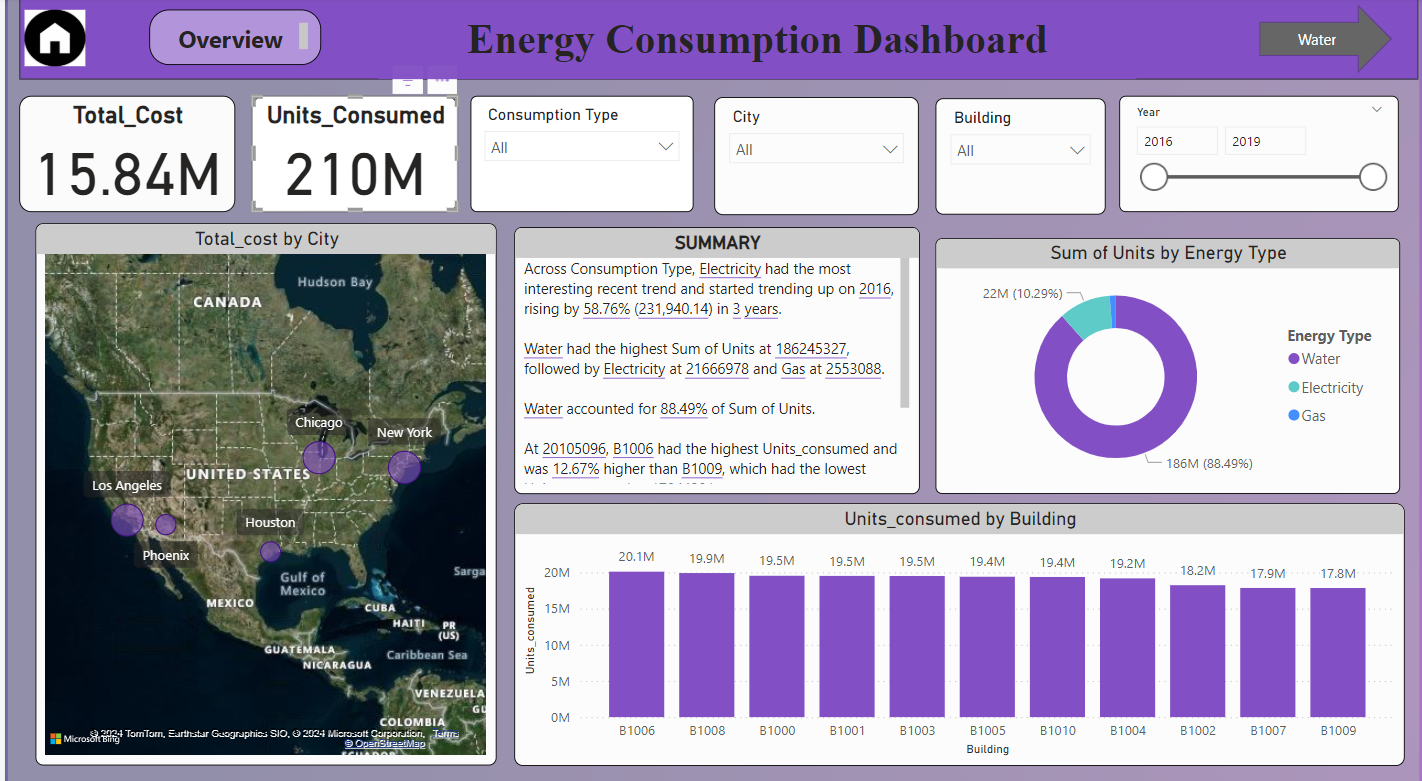

The dashboard page shown, as its layout file describes it:
{"tool":"powerbi","page":{"name":"Overview","canvas":[1280,720],"ordinal":0},"visuals":[{"type":"shape","box":[10.1,0,1269.6,75],"z":0},{"type":"card","title":"Total_Cost","fields":{"Values":["Energy Consumptions.Total_cost"]},"box":[10.1,89.5,196.2,105.3],"z":1000},{"type":"card","title":"Units_Consumed","fields":{"Values":["Energy Consumptions.Units_consumed"]},"box":[220.7,89.5,187.6,105.3],"z":2000},{"type":"textbox","box":[336.2,11.5,688.2,63.5],"z":3000},{"type":"textbox","box":[128.4,11.5,155.8,50.5],"z":4000},{"type":"slicer","fields":{"Values":["Energy Consumptions.Consumption Type"]},"box":[419.8,89.5,202.6,105.9],"z":5000},{"type":"slicer","fields":{"Values":["Building Master.City"]},"box":[640.6,90.9,185.8,107.1],"z":6000},{"type":"slicer","fields":{"Values":["Building Master.Building"]},"box":[841.1,92.3,154.7,105.6],"z":7000},{"type":"slicer","fields":{"Values":["Energy Consumptions.Date.Variation.Date Hierarchy.Year"]},"box":[1008.5,89.5,253.9,105.3],"z":8000},{"type":"map","fields":{"Size":["Energy Consumptions.Total_cost"],"Category":["Building Master.City"]},"box":[24.5,204.9,418.4,492],"z":9000},{"type":"donutChart","fields":{"Y":["Sum(Energy Consumptions.Units)"],"Category":["Rates.Energy Type"]},"box":[841.1,219.3,421.3,232.3],"z":10000},{"type":"columnChart","fields":{"Y":["Energy Consumptions.Units_consumed"],"Category":["Building Master.Building"]},"box":[458.8,458.8,807.9,238.1],"z":11000},{"type":"textbox","title":"SUMMARY","box":[458.8,209.2,367.9,242.4],"z":12000},{"type":"image","box":[9.7,7,65.4,61.2],"z":13000},{"type":"shape","box":[1135.9,7.3,120.6,62.4],"z":14000}]}

Visuals, with their boxes in screenshot pixels (x1, y1, x2, y2), scaled from the page's 1280x720 canvas onto the 1422x781 screenshot:
shape: {"x1": 11, "y1": 0, "x2": 1421, "y2": 81}
"Total_Cost" card: {"x1": 11, "y1": 97, "x2": 229, "y2": 211}
"Units_Consumed" card: {"x1": 245, "y1": 97, "x2": 454, "y2": 211}
textbox: {"x1": 373, "y1": 12, "x2": 1138, "y2": 81}
textbox: {"x1": 143, "y1": 12, "x2": 316, "y2": 67}
slicer - Energy Consumptions.Consumption Type: {"x1": 466, "y1": 97, "x2": 691, "y2": 212}
slicer - Building Master.City: {"x1": 712, "y1": 99, "x2": 918, "y2": 215}
slicer - Building Master.Building: {"x1": 934, "y1": 100, "x2": 1106, "y2": 215}
slicer - Energy Consumptions.Date.Variation.Date Hierarchy.Year: {"x1": 1120, "y1": 97, "x2": 1402, "y2": 211}
map - Energy Consumptions.Total_cost x Building Master.City: {"x1": 27, "y1": 222, "x2": 492, "y2": 756}
donutChart - Sum(Energy Consumptions.Units) x Rates.Energy Type: {"x1": 934, "y1": 238, "x2": 1402, "y2": 490}
columnChart - Energy Consumptions.Units_consumed x Building Master.Building: {"x1": 510, "y1": 498, "x2": 1407, "y2": 756}
"SUMMARY" textbox: {"x1": 510, "y1": 227, "x2": 918, "y2": 490}
image: {"x1": 11, "y1": 8, "x2": 83, "y2": 74}
shape: {"x1": 1262, "y1": 8, "x2": 1396, "y2": 76}
